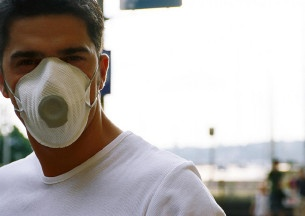Mask: (5, 44, 106, 146)
